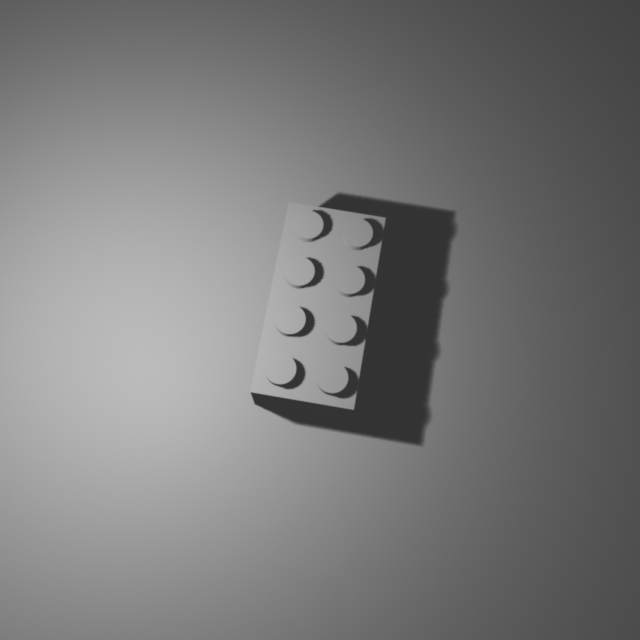lego_2x4: (249, 198, 386, 421)
